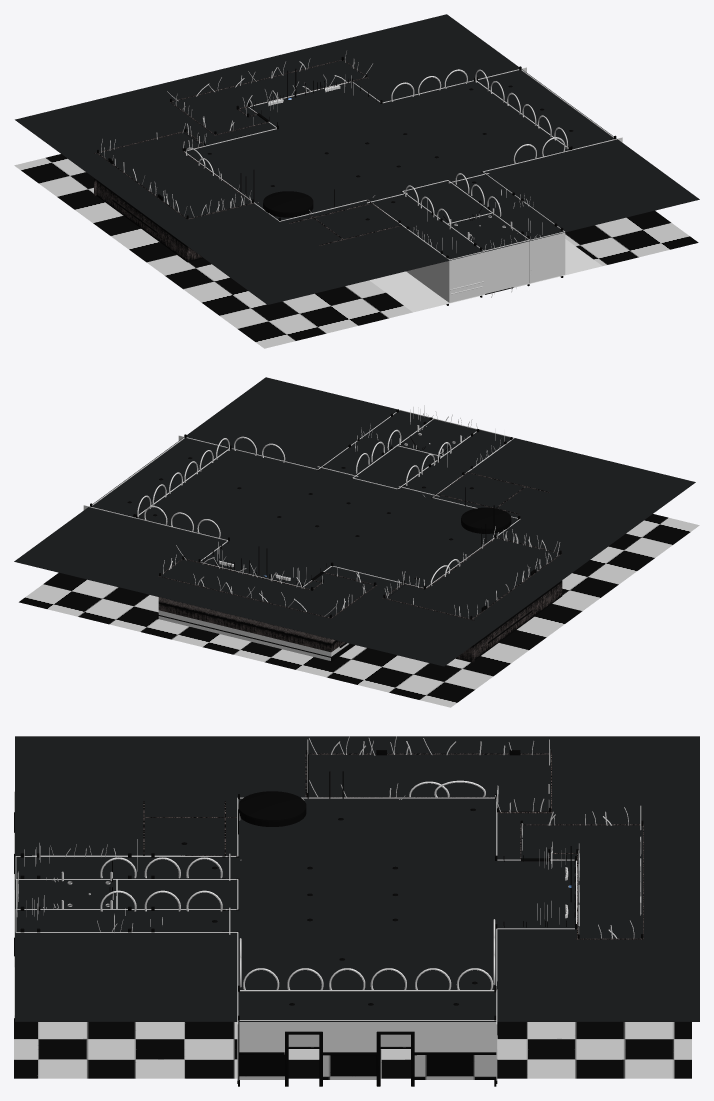
The model's file is Fnaf 1 map by Torres eevee vers.fbx.
The picture shows the model from 3 angles, top to bottom: view 1: azimuth 30°, elevation 25°; view 2: azimuth 150°, elevation 25°; view 3: azimuth 270°, elevation 25°; orthographic projection. The views are drawn at different scales.
Visible parts, largest first — view 1: Plane.003, Plane, Cube.017, NurbsPath.017, Cube, Cylinder.011, Cube.001; view 2: Plane.003, Plane, Cube.017, NurbsPath.017, Cylinder.011, Cube.001; view 3: Plane.003, Plane, Cube.017, NurbsPath.017, Cube.001, Cylinder.011.
Boxes of the visible parts, <box> form: Plane.003: <box>15,14,699,304</box>; Plane: <box>14,154,698,348</box>; Cube.017: <box>94,60,622,302</box>; NurbsPath.017: <box>101,50,568,297</box>; Cube: <box>484,239,529,293</box>; Cylinder.011: <box>263,191,313,217</box>; Cube.001: <box>96,57,616,305</box>; Plane.003: <box>14,377,695,666</box>; Plane: <box>19,514,699,707</box>; Cube.017: <box>83,409,562,662</box>; NurbsPath.017: <box>137,411,560,618</box>; Cylinder.011: <box>461,507,511,533</box>; Cube.001: <box>90,409,562,645</box>; Plane.003: <box>15,736,699,1021</box>; Plane: <box>14,791,691,1078</box>; Cube.017: <box>15,752,643,1083</box>; NurbsPath.017: <box>16,736,641,989</box>; Cube.001: <box>20,750,643,1086</box>; Cylinder.011: <box>238,791,306,826</box>.
Bounding box in the file's own units: 2978 × 576 × 2965.
35 materials, 8 textured.
